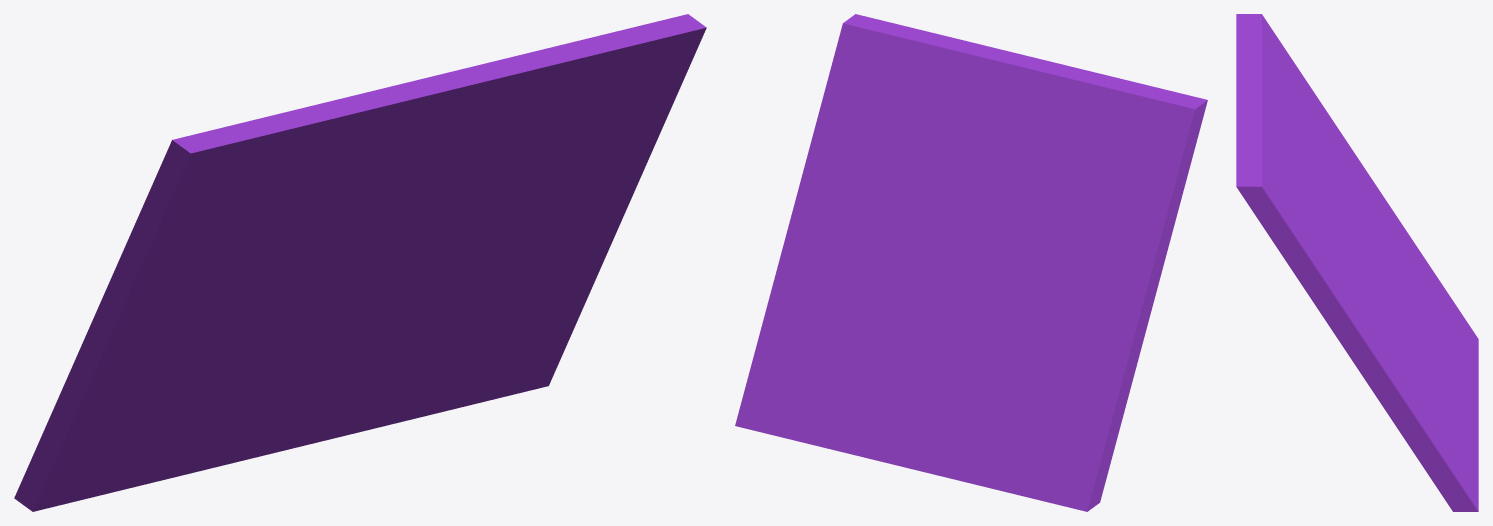
The model's file is Window_30_chunks.fbx.
3 renders of one model, left to right at view 1: azimuth 30°, elevation 25°; view 2: azimuth 150°, elevation 25°; view 3: azimuth 270°, elevation 25°, orthographic. The views are drawn at different scales.
Parts seen in each view (by area): view 1: Window_30_12, Window_30_2, Window_30_7, Window_30_8, Window_30_20, Window_30_1, Window_30_11, Window_30_5, Window_30_21, Window_30_4, Window_30_13, Window_30_15 (+10 smaller); view 2: Window_30_12, Window_30_7, Window_30_2, Window_30_9, Window_30_10, Window_30_15, Window_30_20, Window_30_1, Window_30_13, Window_30_23, Window_30_16, Window_30_4 (+12 smaller); view 3: Window_30_7, Window_30_2, Window_30_12, Window_30_13, Window_30_9, Window_30_10, Window_30_15, Window_30_1, Window_30_23, Window_30_20, Window_30_16, Window_30_25 (+10 smaller).
Boxes of the visible parts, bbox=[...] form: Window_30_12: bbox=[111, 107, 346, 310]; Window_30_2: bbox=[462, 46, 698, 256]; Window_30_7: bbox=[449, 216, 623, 372]; Window_30_8: bbox=[374, 316, 554, 428]; Window_30_20: bbox=[53, 279, 205, 431]; Window_30_1: bbox=[326, 177, 475, 270]; Window_30_11: bbox=[205, 232, 360, 386]; Window_30_5: bbox=[270, 270, 408, 389]; Window_30_21: bbox=[14, 398, 175, 511]; Window_30_4: bbox=[154, 378, 365, 482]; Window_30_13: bbox=[537, 14, 706, 127]; Window_30_15: bbox=[306, 102, 489, 181]; Window_30_12: bbox=[1001, 80, 1207, 289]; Window_30_7: bbox=[735, 209, 878, 424]; Window_30_2: bbox=[793, 31, 934, 238]; Window_30_9: bbox=[874, 231, 979, 376]; Window_30_10: bbox=[977, 267, 1073, 466]; Window_30_15: bbox=[923, 83, 1111, 166]; Window_30_20: bbox=[1073, 263, 1164, 417]; Window_30_1: bbox=[906, 144, 1056, 254]; Window_30_13: bbox=[841, 14, 959, 149]; Window_30_23: bbox=[1027, 375, 1115, 506]; Window_30_16: bbox=[878, 333, 965, 458]; Window_30_4: bbox=[936, 381, 1018, 495]; Window_30_7: bbox=[1350, 296, 1477, 510]; Window_30_2: bbox=[1247, 193, 1362, 357]; Window_30_12: bbox=[1236, 14, 1367, 213]; Window_30_13: bbox=[1236, 140, 1315, 215]; Window_30_9: bbox=[1362, 253, 1424, 357]; Window_30_10: bbox=[1360, 207, 1462, 348]; Window_30_15: bbox=[1253, 57, 1322, 218]; Window_30_1: bbox=[1297, 126, 1363, 281]; Window_30_23: bbox=[1411, 259, 1478, 362]; Window_30_20: bbox=[1346, 141, 1424, 260]; Window_30_16: bbox=[1413, 332, 1469, 401]; Window_30_25: bbox=[1236, 109, 1282, 155].
Bounding box in the file's own units: 1059 × 930 × 628.
